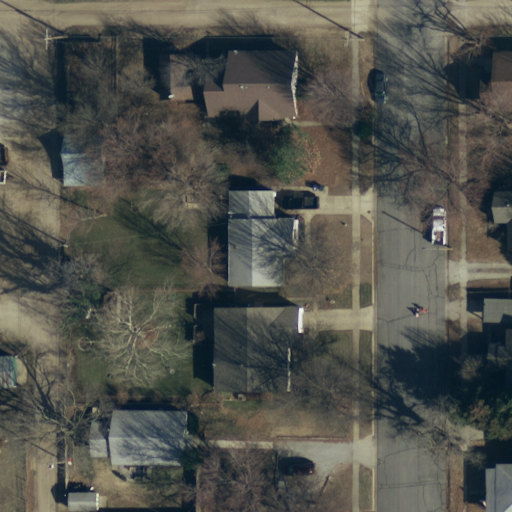DT: (36, 24, 72, 53), (337, 26, 370, 52)
